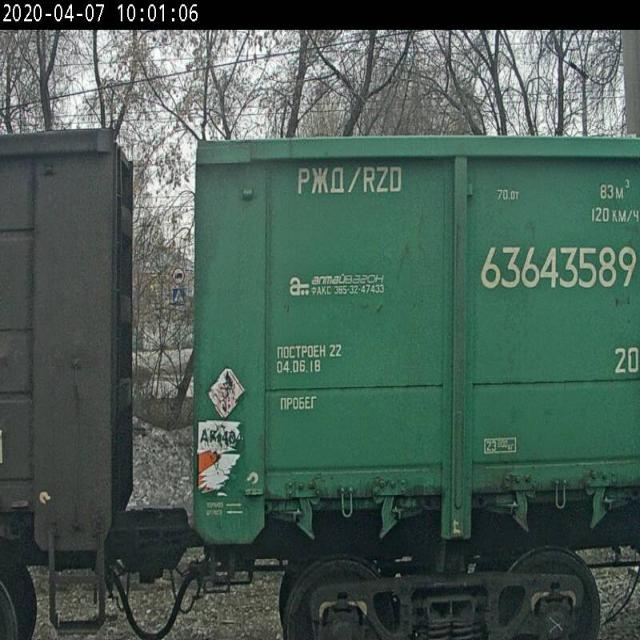gondola: (170, 117, 640, 640), (0, 103, 140, 640)
